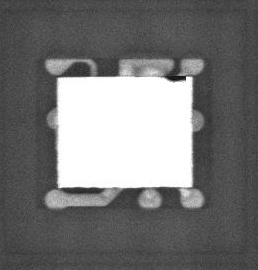DIE_BROKEN: (162, 74, 189, 83)
